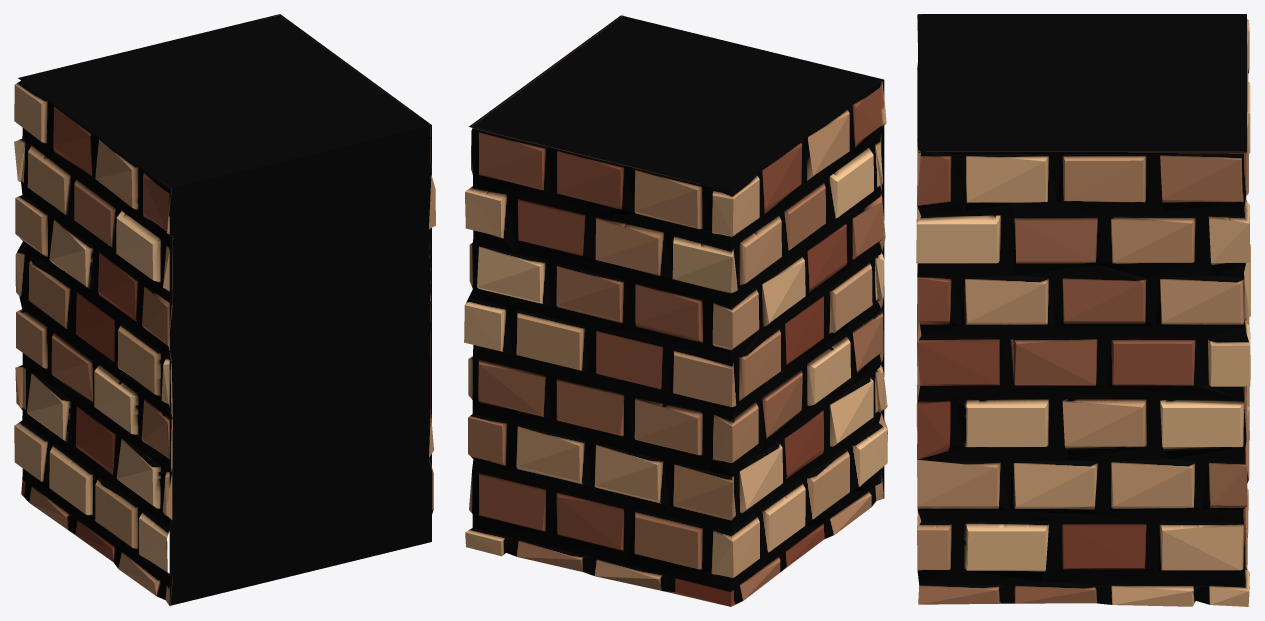
The model's file is BrickWall3Side.glb.
3 views of the same model, side by side, from view 1: azimuth 30°, elevation 25°; view 2: azimuth 150°, elevation 25°; view 3: azimuth 270°, elevation 25° (orthographic). The views are drawn at different scales.
Visible parts, largest first — view 1: 3SideBrickWall; view 2: 3SideBrickWall; view 3: 3SideBrickWall.
Boxes of the visible parts, bbox=[...] form: 3SideBrickWall: bbox=[14, 14, 435, 606]; 3SideBrickWall: bbox=[464, 14, 887, 606]; 3SideBrickWall: bbox=[916, 14, 1250, 606].
Size of the model in its own units: 2.05 by 3.06 by 2.04.
1 material, 1 textured.
